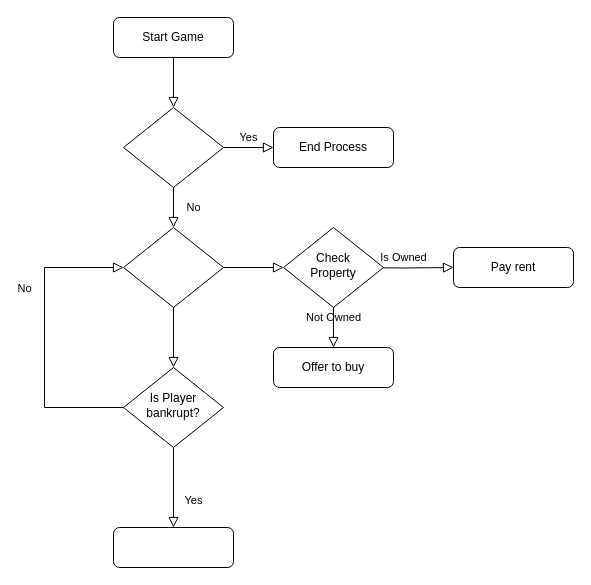
Some shapes in this 591 by 585 pixel diagram are drawn without their labels. Each missing label, with the box of its shape:
End game: (112, 526, 234, 568)
Has Game ended?: (122, 106, 224, 188)
Roll Dice: (122, 226, 224, 308)
